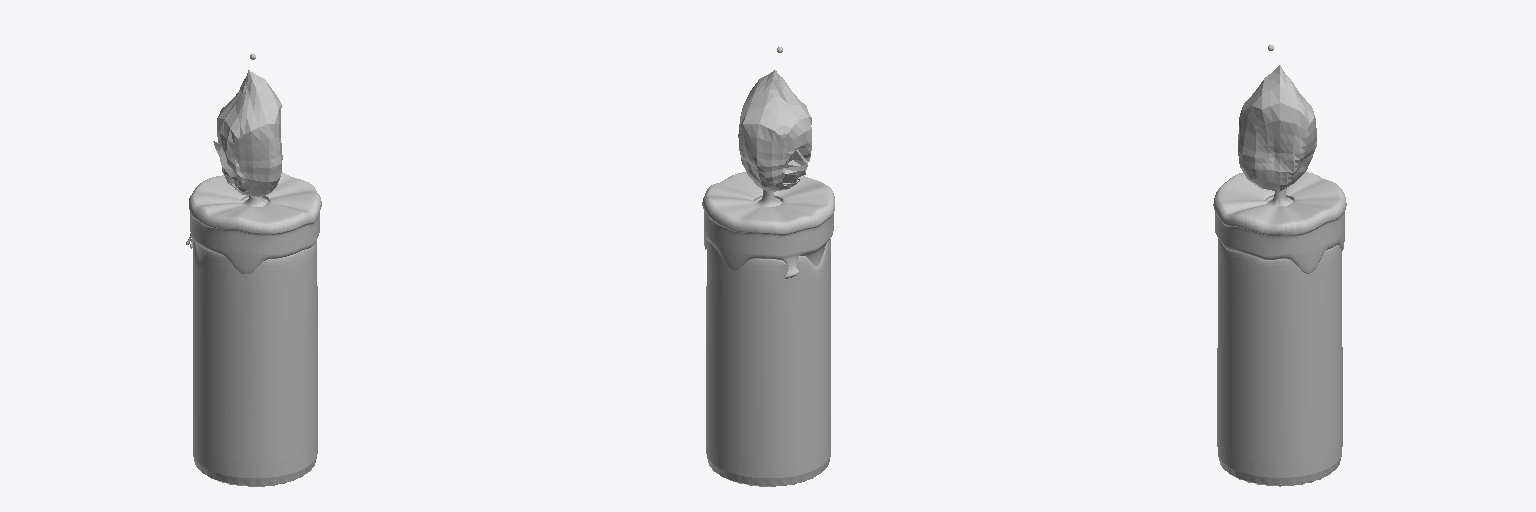
File: lazhu.obj
3 views of the same model, side by side, from view 1: azimuth 30°, elevation 25°; view 2: azimuth 150°, elevation 25°; view 3: azimuth 270°, elevation 25° (orthographic).
Parts seen in each view (by area): view 1: 柱体_材质, Cube_Material; view 2: 柱体_材质, Cube_Material; view 3: 柱体_材质, Cube_Material.
Boxes of the visible parts, box(x1,y1,x2,y2) form: 柱体_材质: box(186, 172, 321, 486); Cube_Material: box(213, 70, 282, 197); 柱体_材质: box(702, 172, 834, 486); Cube_Material: box(738, 70, 811, 191); 柱体_材质: box(1213, 172, 1346, 486); Cube_Material: box(1238, 65, 1316, 191).
Bounding box in the file's own units: 2.14 × 7.25 × 2.11.